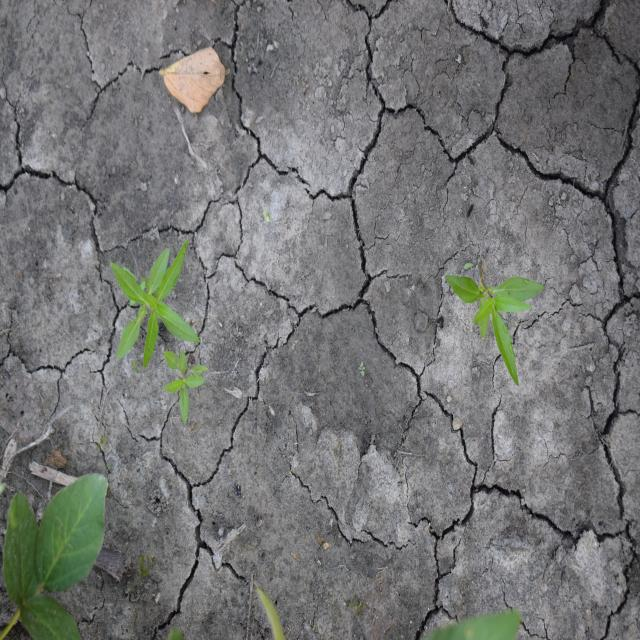Eclipta: (444, 258, 545, 388), (108, 238, 201, 371), (163, 349, 209, 425)
